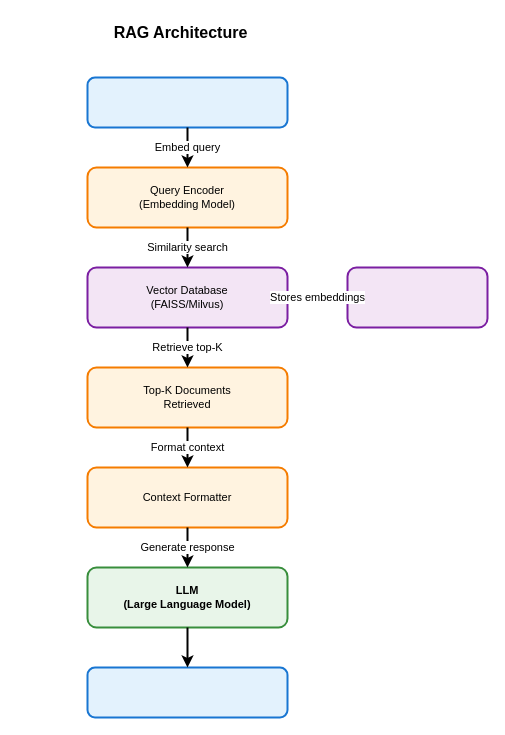
This 505x735 diagram has some shape labels left out. The centre of each missing label's shape, as x and y in pixels:
"Document Store" belongs at point (417, 297).
"Grounded Response" belongs at point (187, 692).
"User Query" belongs at point (187, 102).
